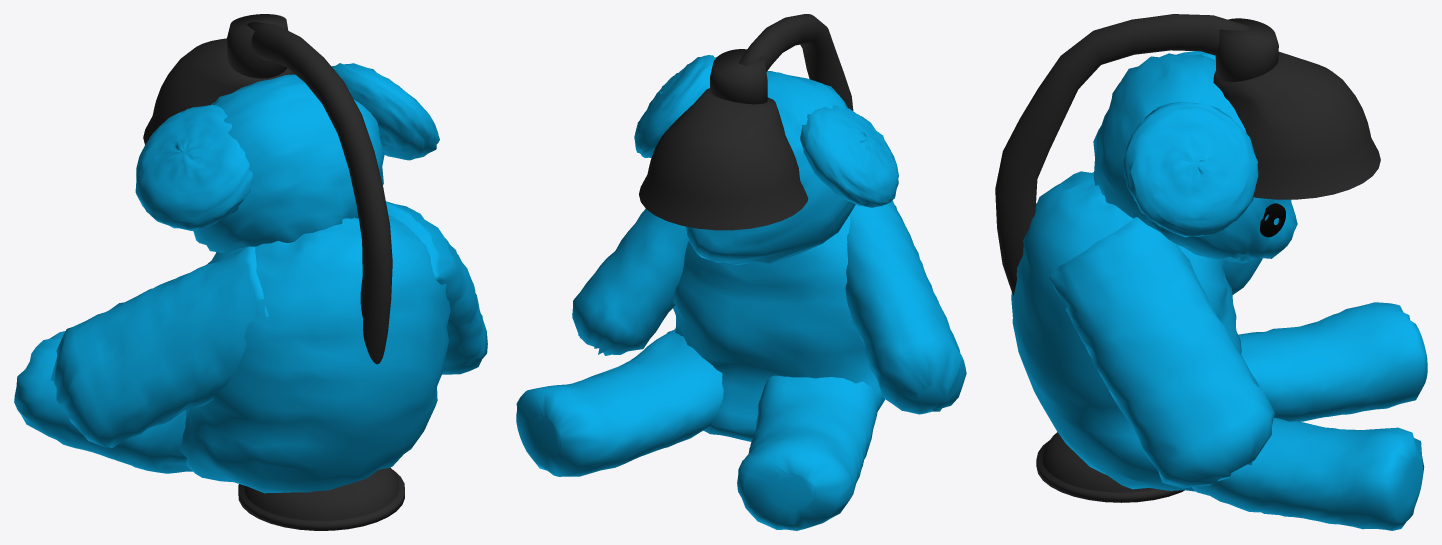
Rendered from asset.glb.
The picture shows the model from 3 angles, left to right: view 1: azimuth 30°, elevation 25°; view 2: azimuth 150°, elevation 25°; view 3: azimuth 270°, elevation 25°; orthographic projection. The views are drawn at different scales.
Parts seen in each view (by area): view 1: body, right arm, head, arm, right ear, right leg, left arm, left ear, shade, base.001, lil connector thing, base; view 2: body, left leg, shade, right leg, right arm, left arm, head, right ear, arm, left ear, lil connector thing; view 3: left arm, body, left leg, right leg, shade, left ear, arm, head, lil connector thing, base.001, base, right arm (+1 smaller).
Boxes of the visible parts, box(x1,y1,x2,y2) form: body: box(180, 215, 450, 493); right arm: box(50, 246, 268, 447); head: box(193, 74, 384, 253); arm: box(247, 22, 392, 364); right ear: box(135, 104, 252, 230); right leg: box(14, 331, 192, 473); left arm: box(386, 201, 487, 374); left ear: box(331, 63, 439, 160); shade: box(143, 38, 294, 144); base.001: box(244, 467, 399, 520); lil connector thing: box(227, 14, 288, 78); base: box(238, 469, 404, 530); body: box(673, 200, 904, 441); left leg: box(516, 329, 723, 476); shade: box(639, 88, 808, 230); right leg: box(737, 375, 877, 530); right arm: box(845, 202, 966, 414); left arm: box(572, 209, 688, 355); head: box(685, 71, 855, 265); right ear: box(800, 105, 898, 207); arm: box(739, 14, 853, 110); left ear: box(634, 55, 716, 157); lil connector thing: box(710, 49, 767, 104); left arm: box(1049, 217, 1274, 488); body: box(1011, 171, 1241, 491); left leg: box(1192, 418, 1424, 530); right leg: box(1238, 302, 1427, 421); shade: box(1213, 51, 1380, 199); left ear: box(1123, 101, 1258, 237); arm: box(995, 14, 1249, 295); head: box(1093, 53, 1297, 263); lil connector thing: box(1215, 18, 1278, 81); base.001: box(1042, 432, 1155, 492); base: box(1036, 440, 1184, 502); right arm: box(1092, 172, 1262, 294).
Size of the model in its own units: 28.54 by 29.22 by 25.46.
